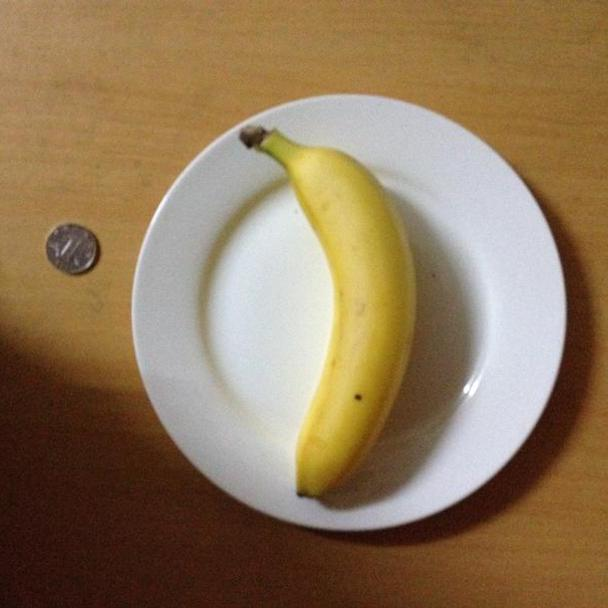banana: (233, 125, 423, 499)
